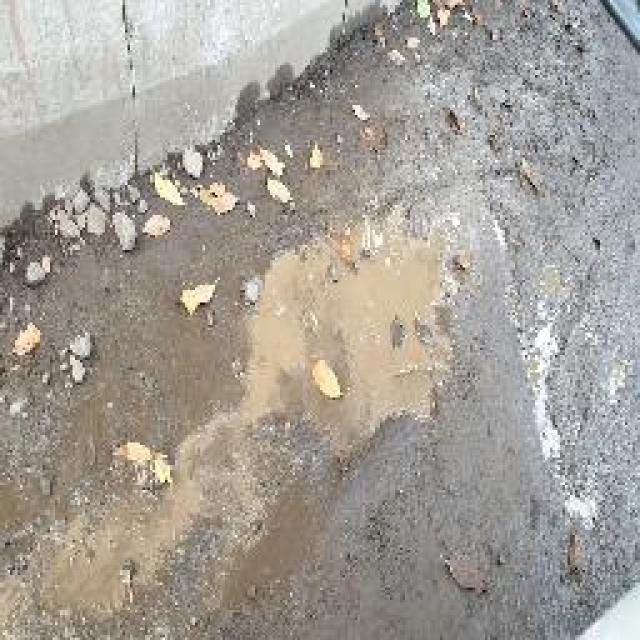stagnation: (243, 195, 487, 468)
